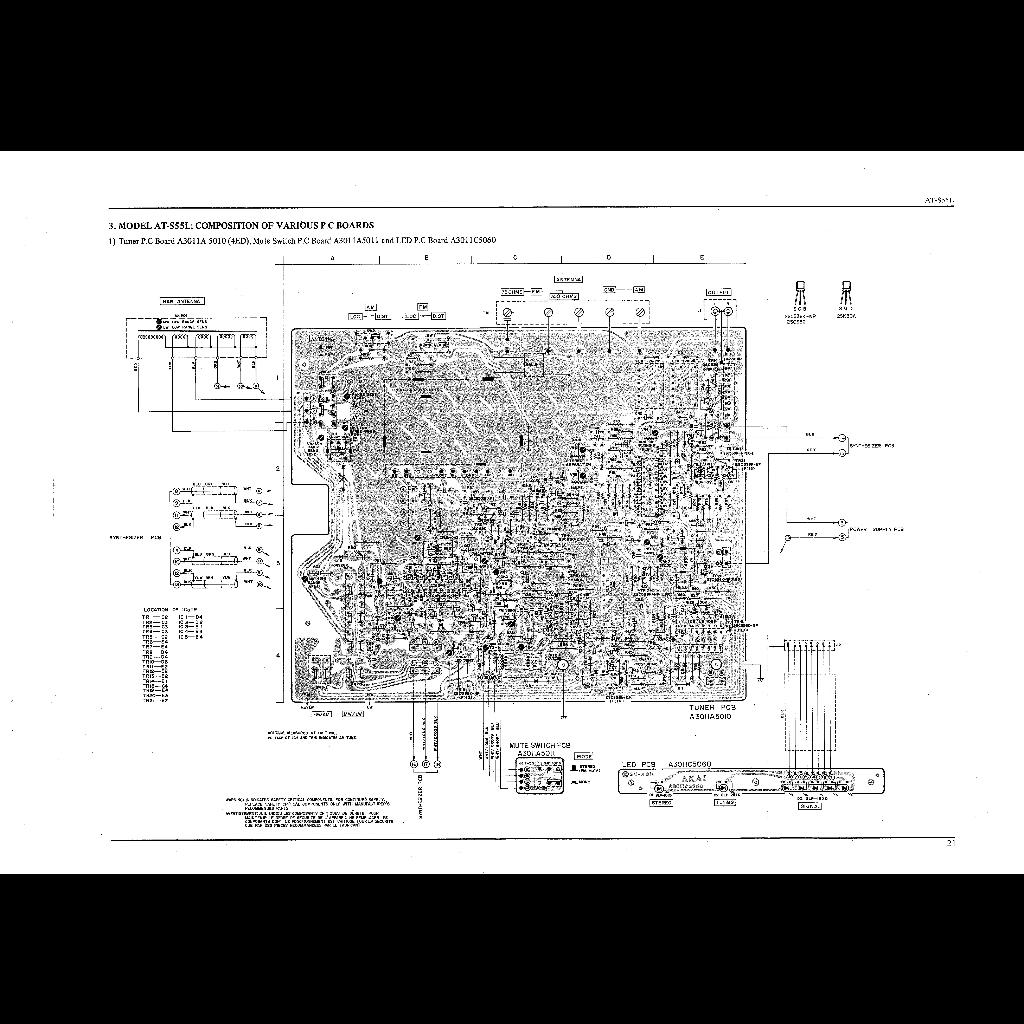Board: (105, 237, 911, 829)
Table: (135, 599, 209, 707)
